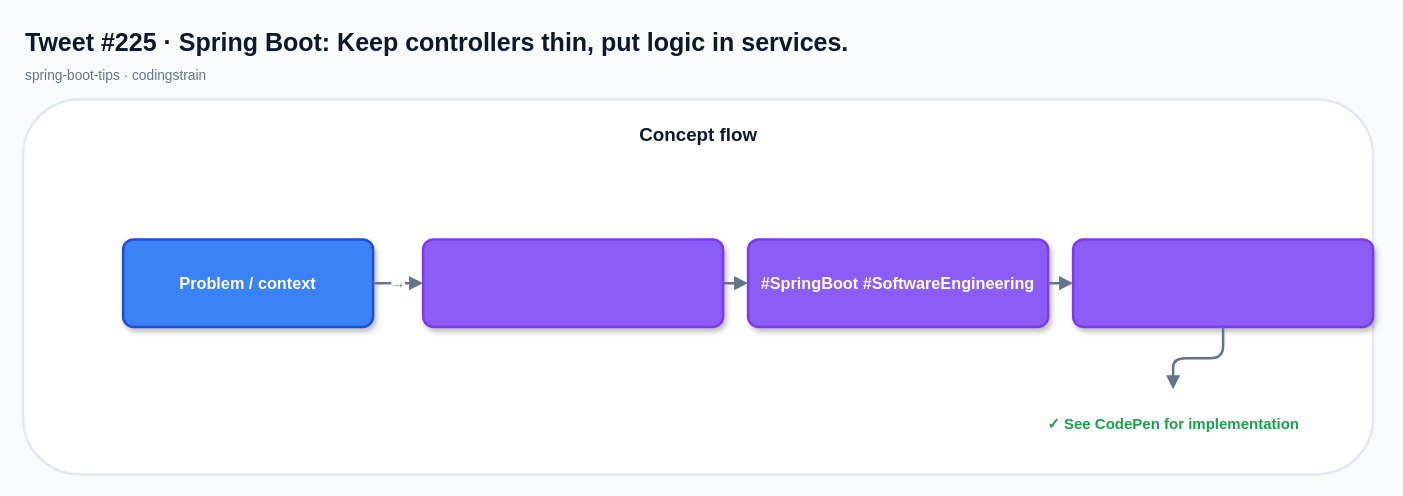
Image size: 1403x496. Some labels were removed from this diagram. The centre of each missing label's shape, as x and y in pixels:
"Controllers main job is just to handle HTTP concerns" goes at (573,284).
"Runnable sample: `spring-boot-tips`" goes at (1223,284).
